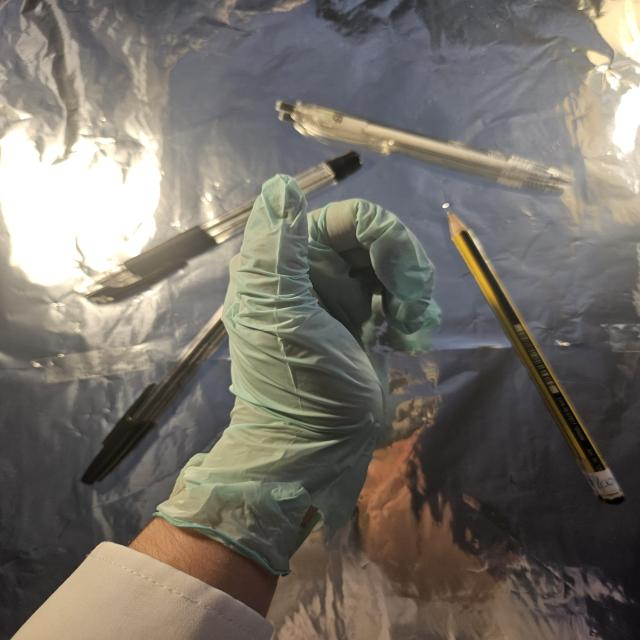gloves_damaged: (157, 174, 442, 572)
